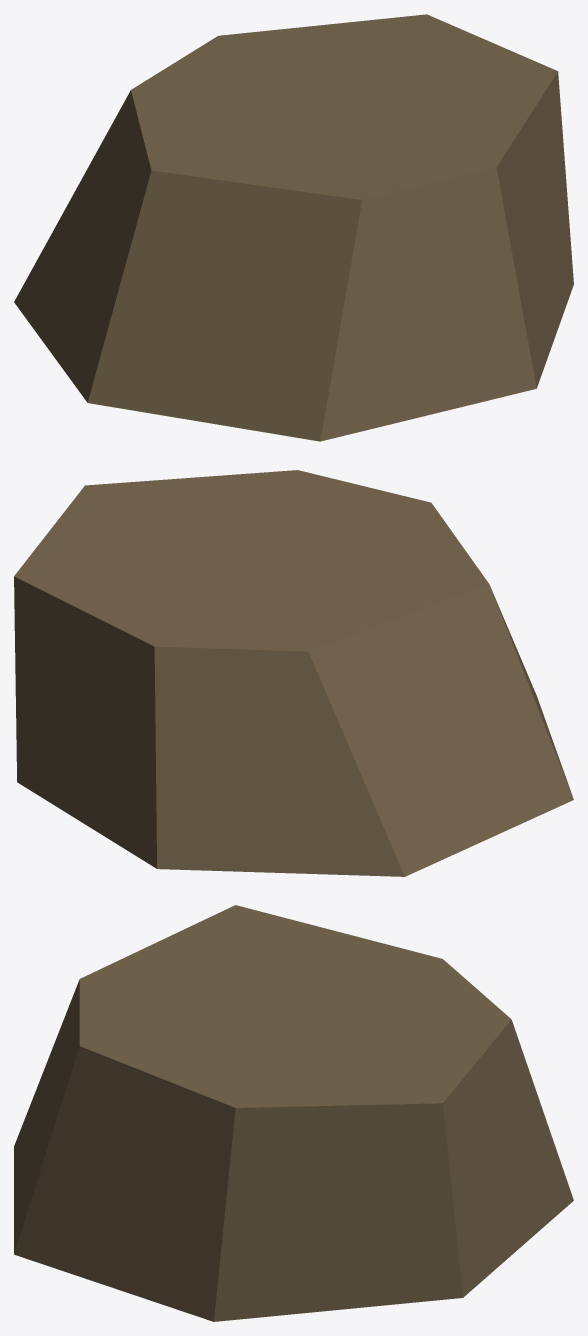
Rendered from Tree_Cut_2.fbx.
The picture shows the model from 3 angles, top to bottom: view 1: azimuth 30°, elevation 25°; view 2: azimuth 150°, elevation 25°; view 3: azimuth 270°, elevation 25°; orthographic projection. The views are drawn at different scales.
Visible parts, largest first — view 1: Wood.001; view 2: Wood.001; view 3: Wood.001.
Part boxes in pixels (box(x1,y1,x2,y2)): Wood.001: box(14, 14, 573, 441); Wood.001: box(14, 470, 573, 876); Wood.001: box(14, 905, 573, 1321).
Bounding box in the file's own units: 134 × 54.55 × 131.
